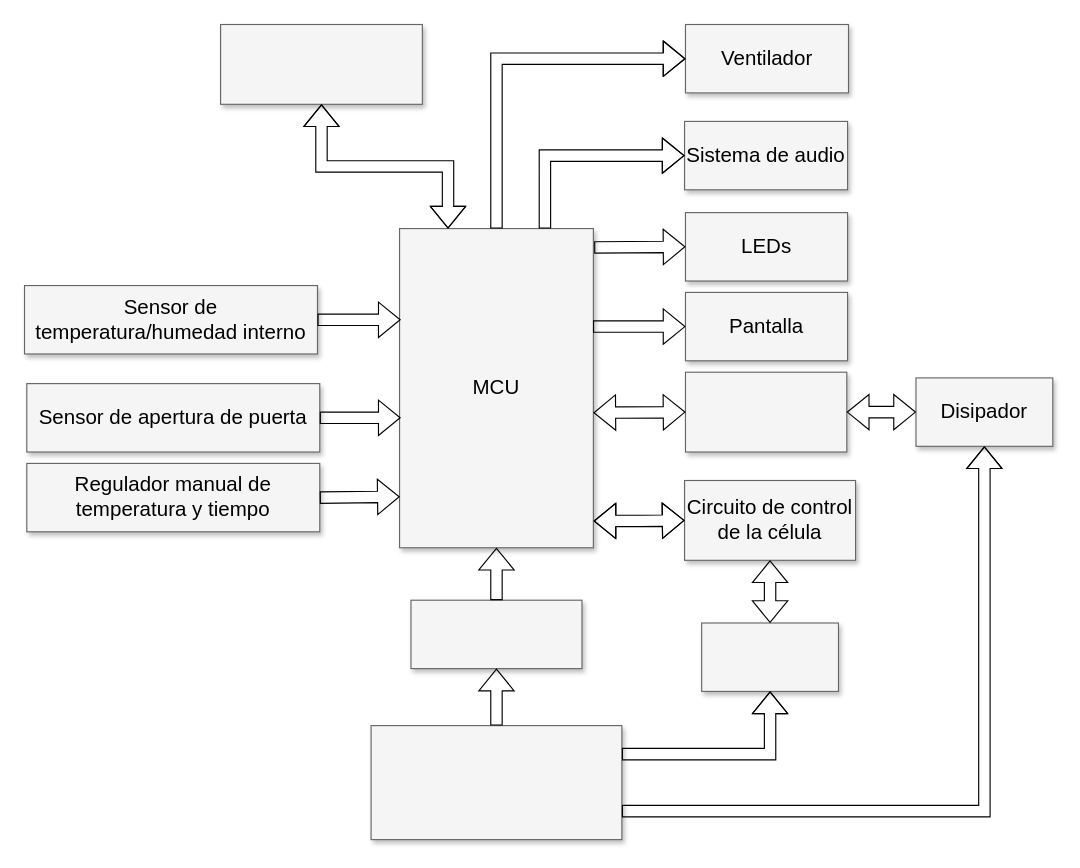
Some shapes in this 1080 by 868 pixel diagram are drawn without their labels. The shapes that lost their labels are listed below. From the top down, each one's centre as x and y in pixels, then its label:
At pixel 322 65: "Sistema de autorregulación y protección".
At pixel 767 413: "Circuito de control del disipador".
At pixel 497 636: "Regulador de voltaje".
At pixel 770 658: "Peltier".
At pixel 497 784: "Fuente de alimentación".
